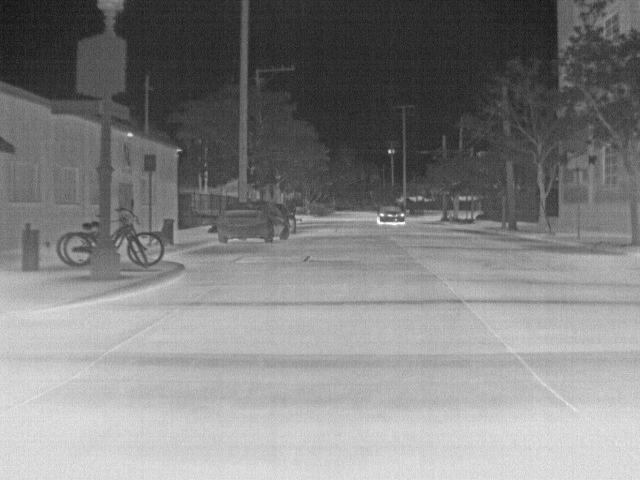car: (217, 198, 291, 244), (278, 202, 299, 234), (378, 203, 406, 225)
